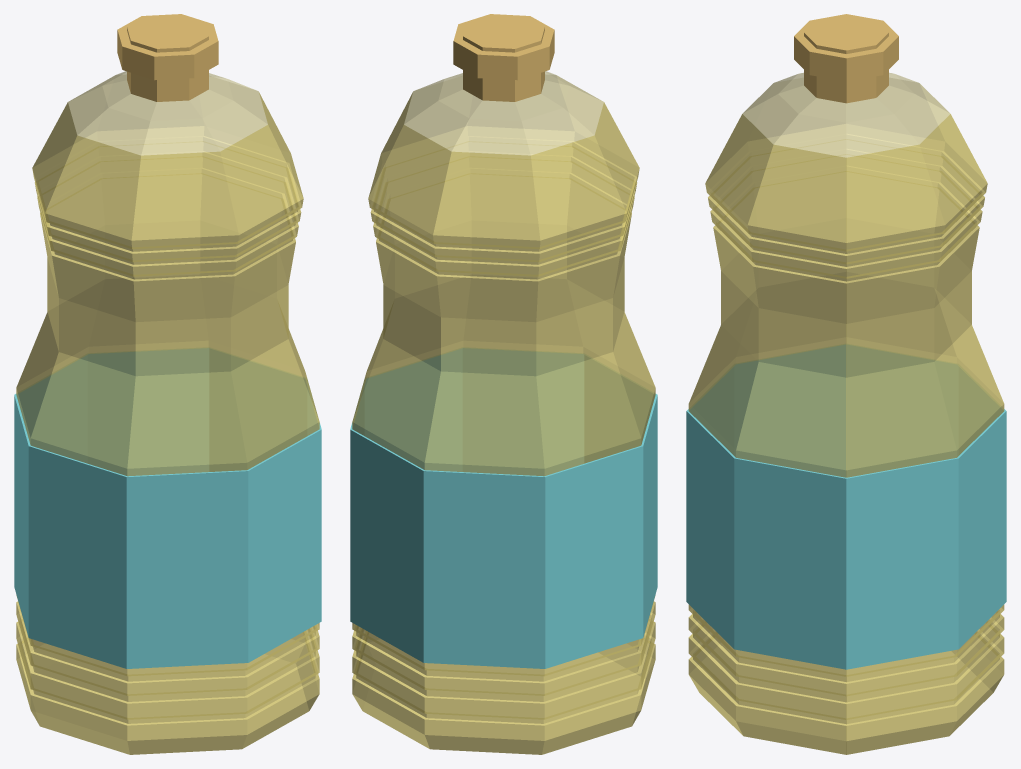
Rendered from Oil.fbx.
The picture shows the model from 3 angles, left to right: view 1: azimuth 30°, elevation 25°; view 2: azimuth 150°, elevation 25°; view 3: azimuth 270°, elevation 25°; orthographic projection.
Parts seen in each view (by area): view 1: Oil; view 2: Oil; view 3: Oil.
Boxes of the visible parts, x1=… form: Oil: x1=14, y1=14, x2=321, y2=754; Oil: x1=350, y1=14, x2=657, y2=754; Oil: x1=686, y1=14, x2=1006, y2=754.
Size of the model in its own units: 127 by 288 by 127.
